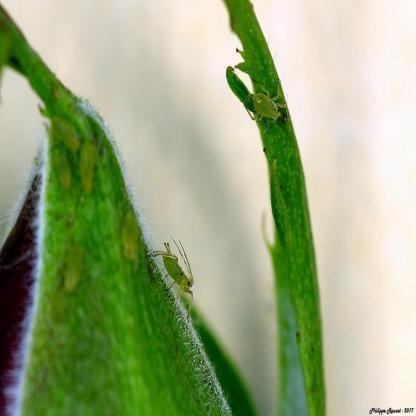aphid: (151, 235, 197, 318), (244, 78, 291, 132), (118, 194, 145, 278), (55, 242, 88, 298), (74, 136, 98, 192), (51, 108, 80, 152)
